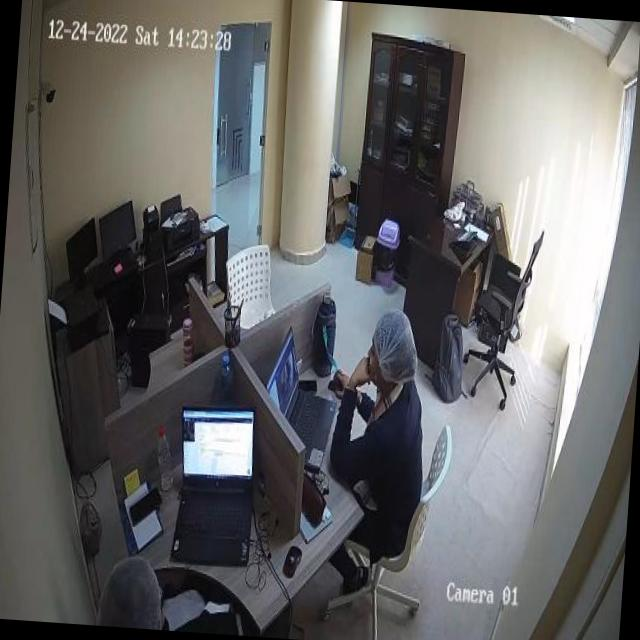hairnet: (376, 310, 420, 384)
